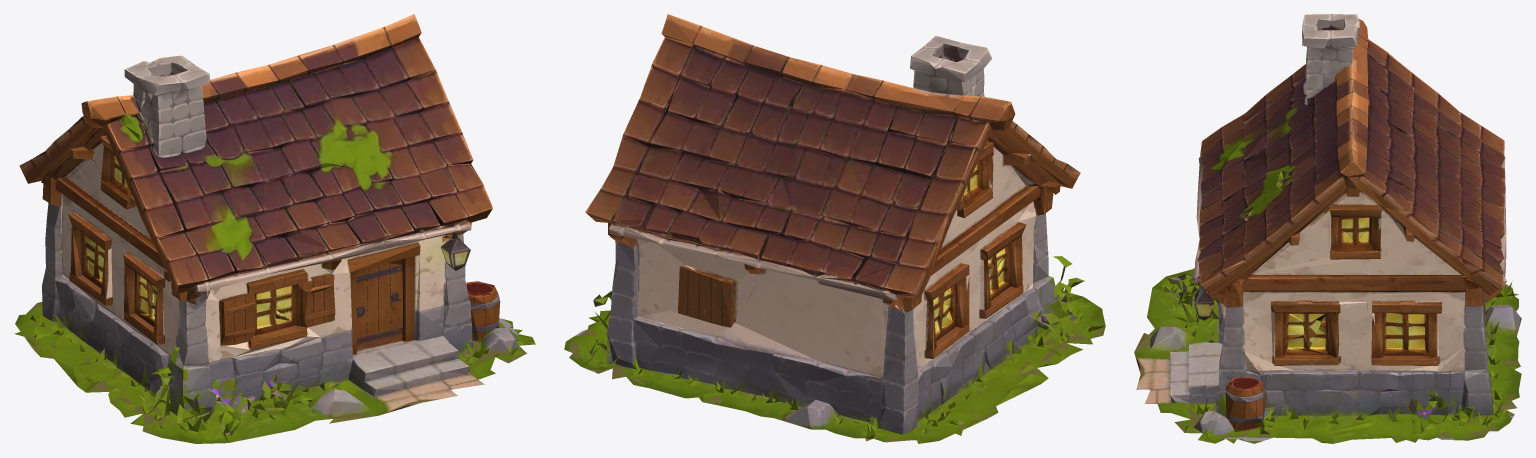
Rendered from cottage_green.glb.
3 renders of one model, left to right at view 1: azimuth 30°, elevation 25°; view 2: azimuth 150°, elevation 25°; view 3: azimuth 270°, elevation 25°, orthographic. The views are drawn at different scales.
Parts seen in each view (by area): view 1: output_unwrapped; view 2: output_unwrapped; view 3: output_unwrapped.
Boxes of the visible parts, left/top/right/bottom form: output_unwrapped: left=14, top=14, right=535, bottom=443; output_unwrapped: left=564, top=14, right=1105, bottom=443; output_unwrapped: left=1134, top=14, right=1521, bottom=443.
Bounding box in the file's own units: 1.9 × 1.37 × 1.72.
1 material, 1 textured.
